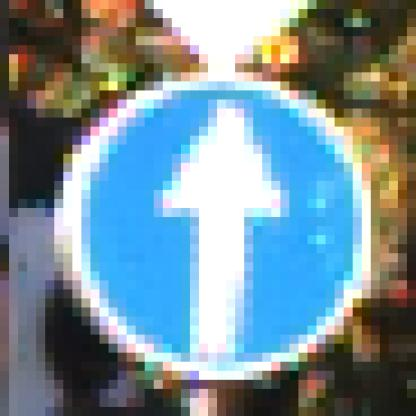AheadOnly: (55, 55, 363, 372)
